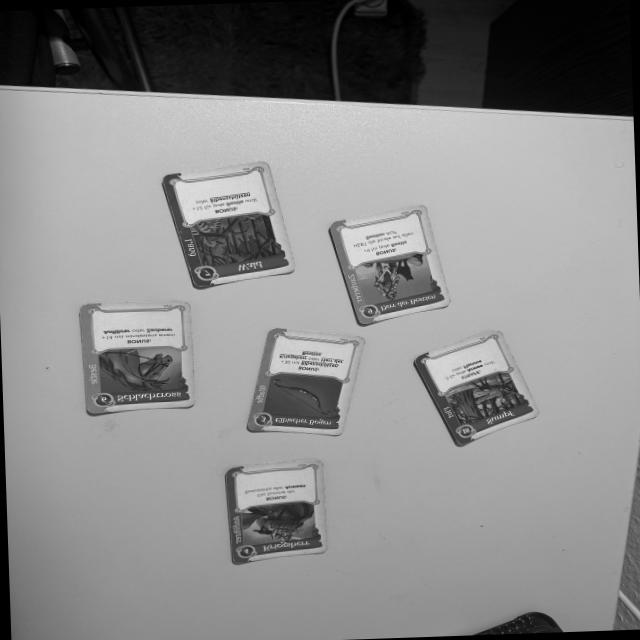Beast Master: (326, 204, 453, 328)
Elven Longbow: (241, 326, 370, 437)
Forest: (159, 157, 298, 290)
Swamp: (410, 326, 541, 451)
War Horse: (75, 299, 196, 416)
Warlord: (222, 461, 327, 568)
